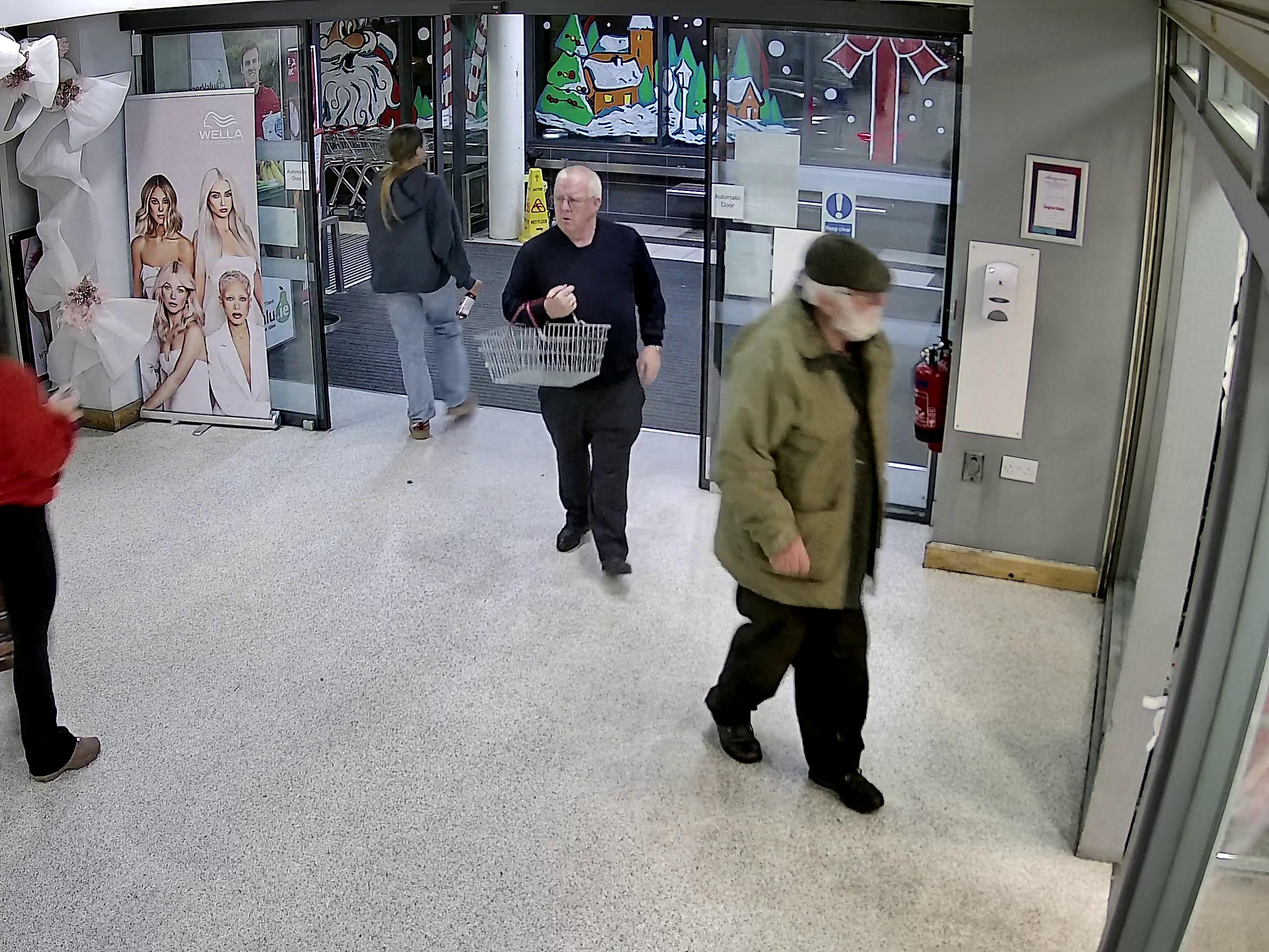empty-basket: (471, 292, 609, 388)
person: (501, 163, 666, 577)
person-with-empty-basket-trolly: (471, 163, 667, 578)
